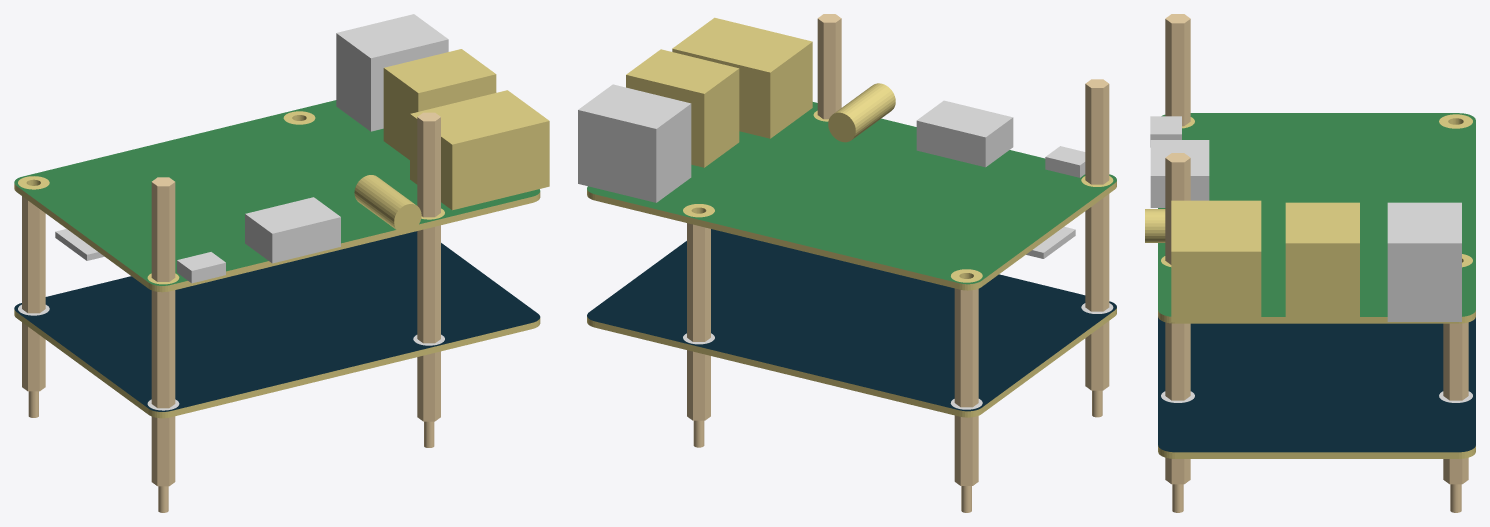
The model's file is raspberry.dae.
3 renders of one model, left to right at view 1: azimuth 30°, elevation 25°; view 2: azimuth 150°, elevation 25°; view 3: azimuth 270°, elevation 25°, orthographic. The views are drawn at different scales.
Parts seen in each view (by area): view 1: raspberry; view 2: raspberry; view 3: raspberry.
Boxes of the visible parts, x1=… form: raspberry: x1=14, y1=14, x2=549, y2=512; raspberry: x1=578, y1=14, x2=1116, y2=512; raspberry: x1=1145, y1=14, x2=1475, y2=512.
Bounding box in the file's own units: 0.0896 × 0.0583 × 0.0686.
